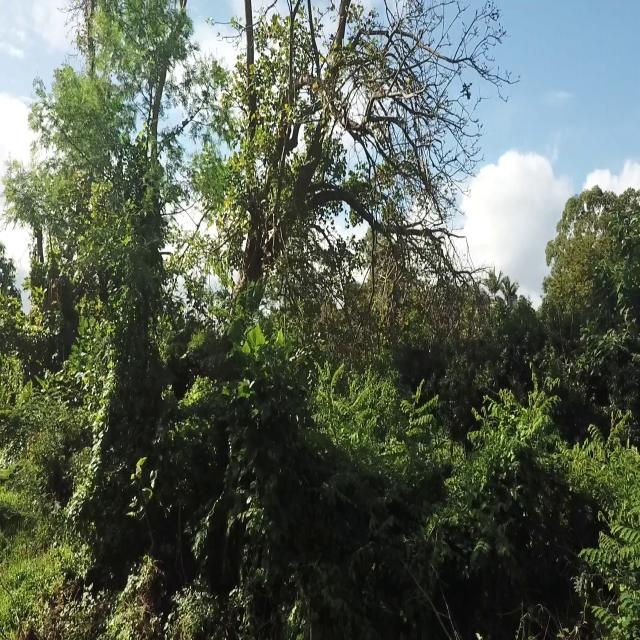Mysore-Thorn-Weed: (455, 374, 571, 530), (582, 408, 640, 636), (302, 364, 378, 460), (397, 378, 441, 445)
